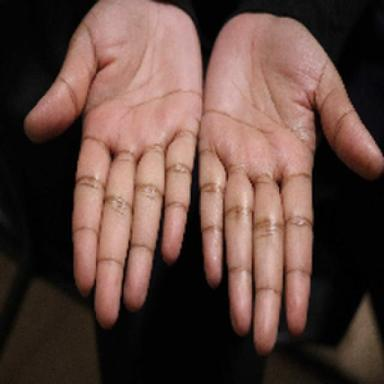normal skin: (25, 1, 384, 354)
